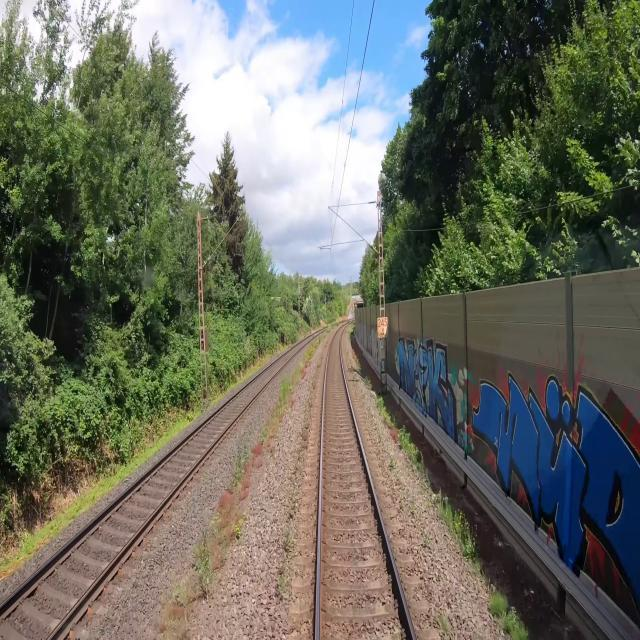Plant: (153, 324, 333, 639), (427, 497, 471, 561), (374, 398, 416, 465), (487, 592, 519, 639), (277, 566, 287, 593), (439, 615, 450, 631), (285, 530, 292, 552), (423, 535, 432, 546), (410, 502, 418, 514), (391, 457, 397, 468), (398, 500, 404, 508)
